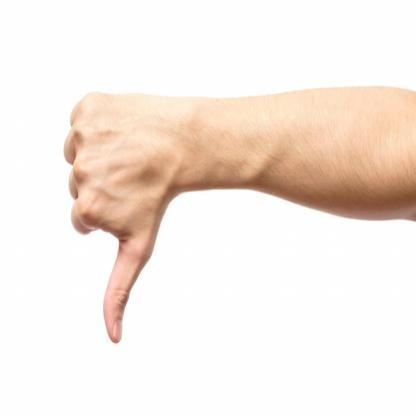thumb_down: (64, 87, 174, 344)
